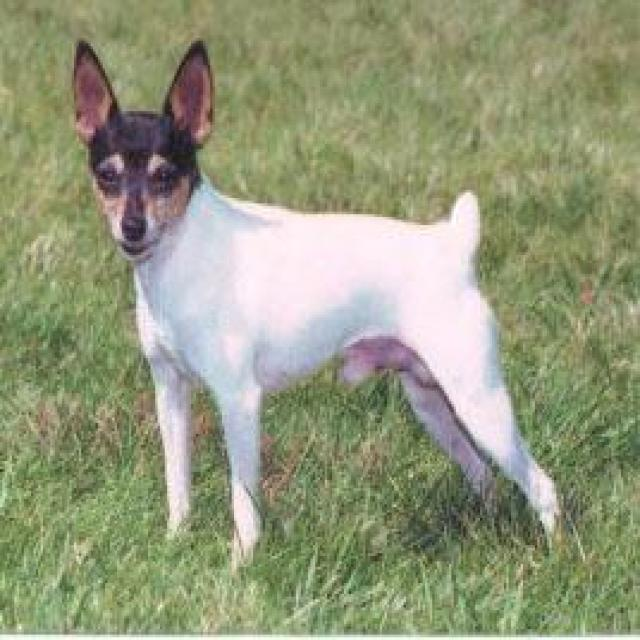toy_terrier: (67, 38, 566, 567)
